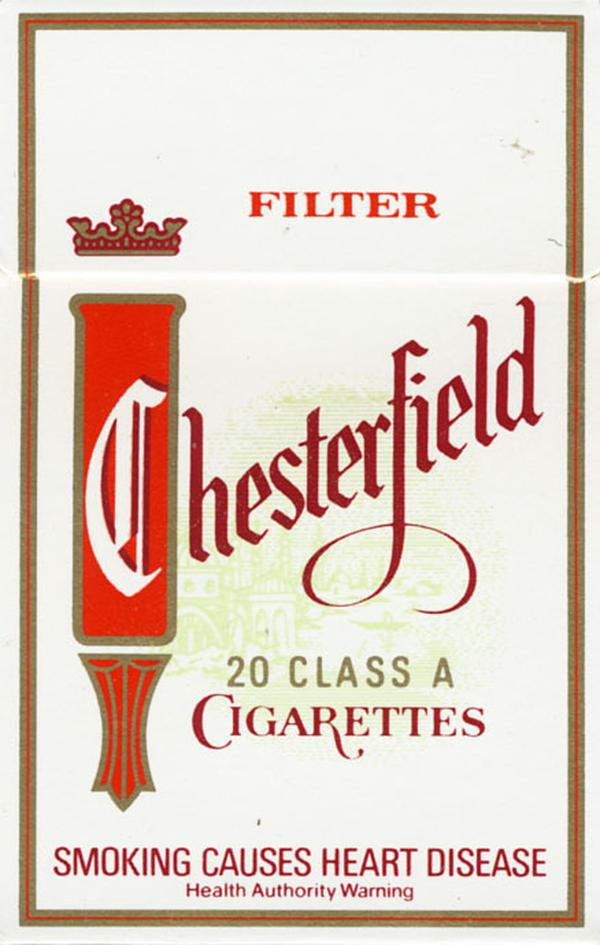chesterfield_red: (1, 1, 598, 939)
